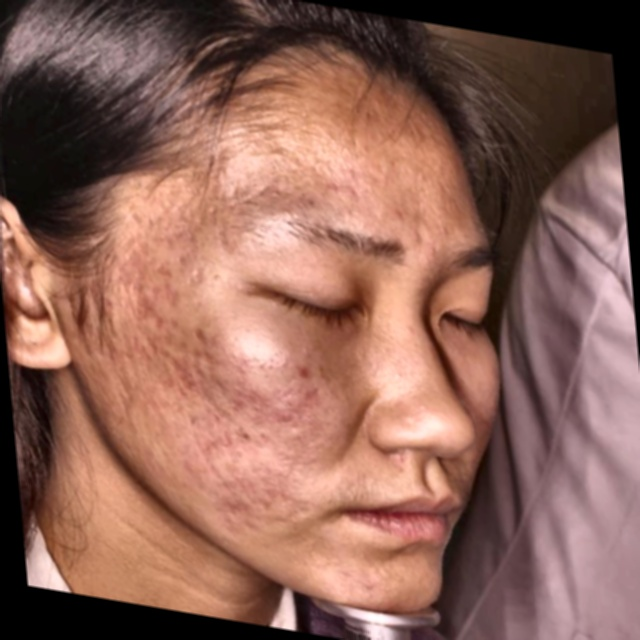comedone: (386, 203, 415, 232)
